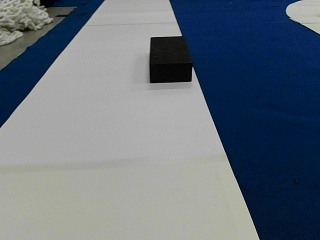block: (149, 35, 192, 82)
